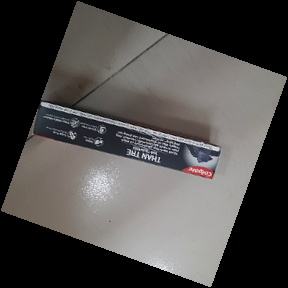Colgate Than: (32, 99, 222, 181)
